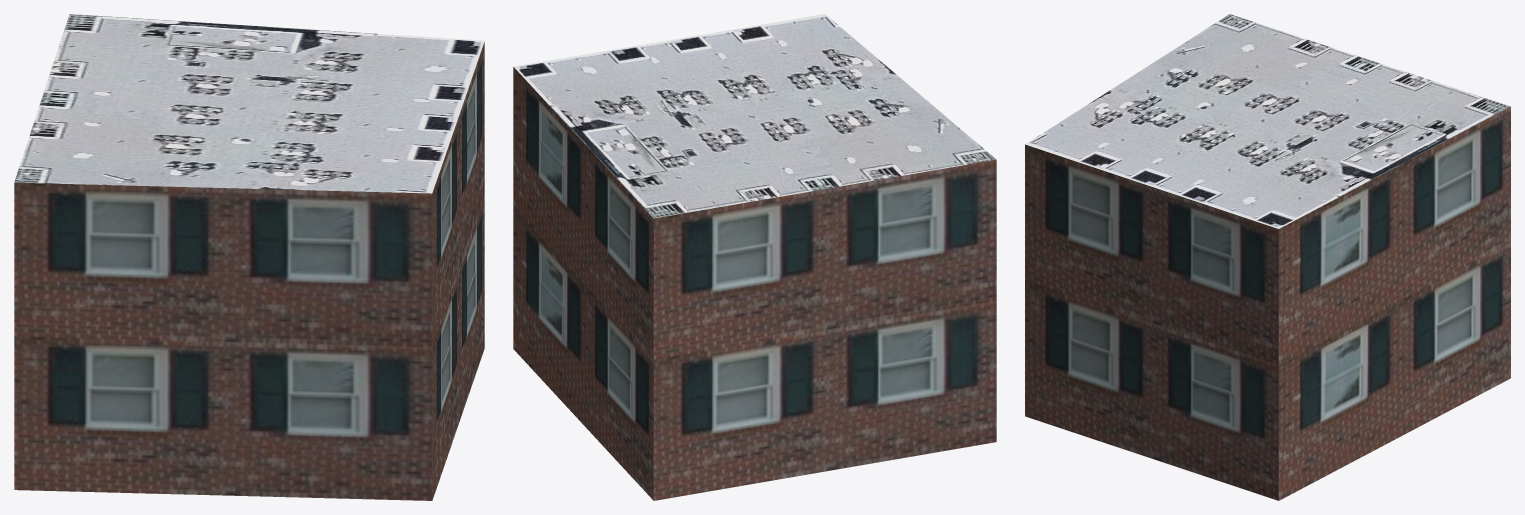
File: ResTex__928.fbx
3 views of the same model, side by side, from view 1: azimuth 30°, elevation 25°; view 2: azimuth 150°, elevation 25°; view 3: azimuth 270°, elevation 25° (orthographic). The views are drawn at different scales.
Visible parts, largest first — view 1: CityEngineMaterial_14_m, CityEngineMaterial_8_m; view 2: CityEngineMaterial_14_m, CityEngineMaterial_8_m; view 3: CityEngineMaterial_14_m, CityEngineMaterial_8_m.
Boxes of the visible parts, x1,y1,x2,y2 form: CityEngineMaterial_14_m: (14,42,484,500); CityEngineMaterial_8_m: (14,14,484,193); CityEngineMaterial_14_m: (513,67,996,500); CityEngineMaterial_8_m: (513,14,995,218); CityEngineMaterial_14_m: (1025,106,1510,500); CityEngineMaterial_8_m: (1025,14,1510,228).
Size of the model in its own units: 10.18 by 6 by 9.72.
2 materials, 2 textured.
